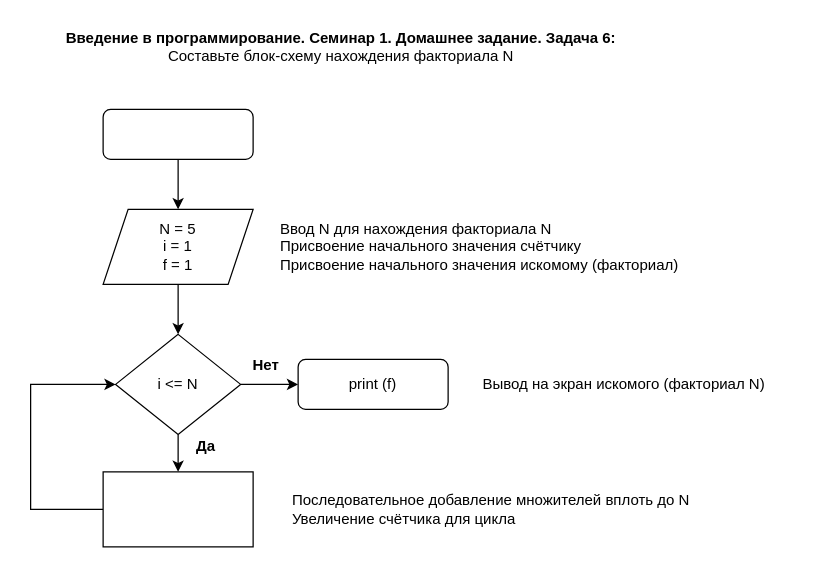
The diagram is 815 pixels wide and 569 high, and some of its shapes have lost their labels. The box of each missing label's shape, as (x1, y1, x2, y2) in pixels:
f = f * i i = i + 1: (102, 471, 253, 547)
Start: (102, 108, 253, 159)
